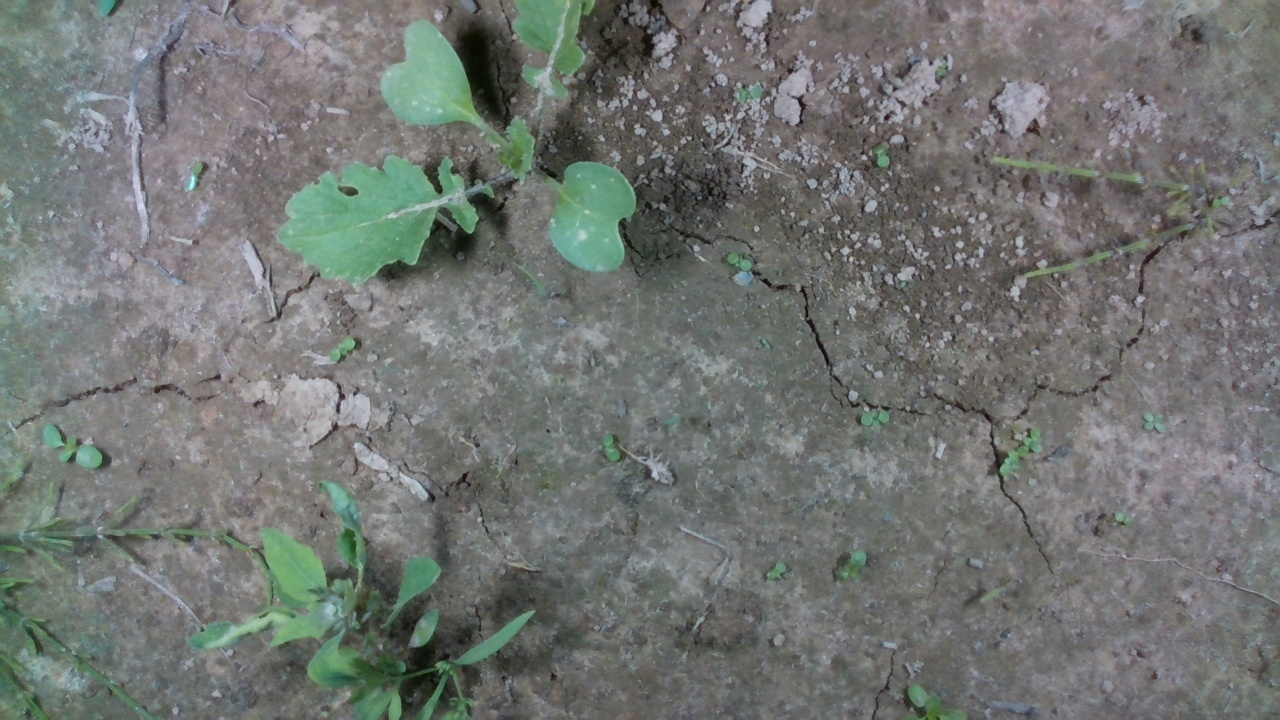weed: (36, 420, 122, 475), (596, 429, 631, 475), (725, 249, 762, 280), (858, 404, 895, 434), (1140, 408, 1168, 441), (870, 138, 893, 174), (765, 560, 795, 582)
